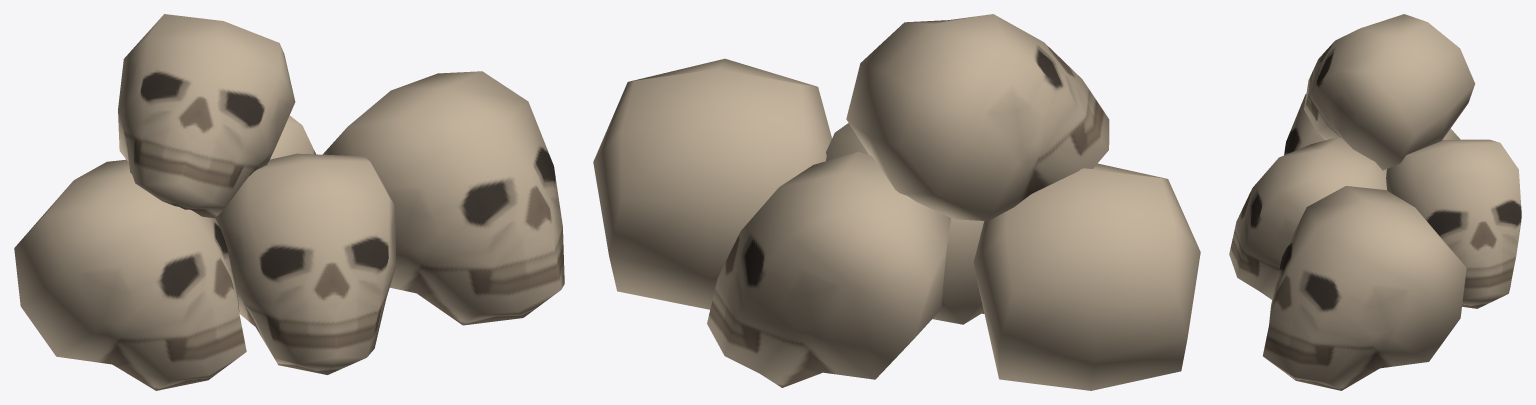
The model's file is skulls.gltf.
3 renders of one model, left to right at view 1: azimuth 30°, elevation 25°; view 2: azimuth 150°, elevation 25°; view 3: azimuth 270°, elevation 25°, orthographic. The views are drawn at different scales.
Visible parts, largest first — view 1: skulls; view 2: skulls; view 3: skulls.
Boxes of the visible parts, bbox=[...] form: skulls: bbox=[14, 14, 564, 390]; skulls: bbox=[593, 14, 1200, 390]; skulls: bbox=[1229, 14, 1521, 390].
Bounding box in the file's own units: 0.6517 × 0.3934 × 0.4093.
Materials: 1 (1 with a texture image).
